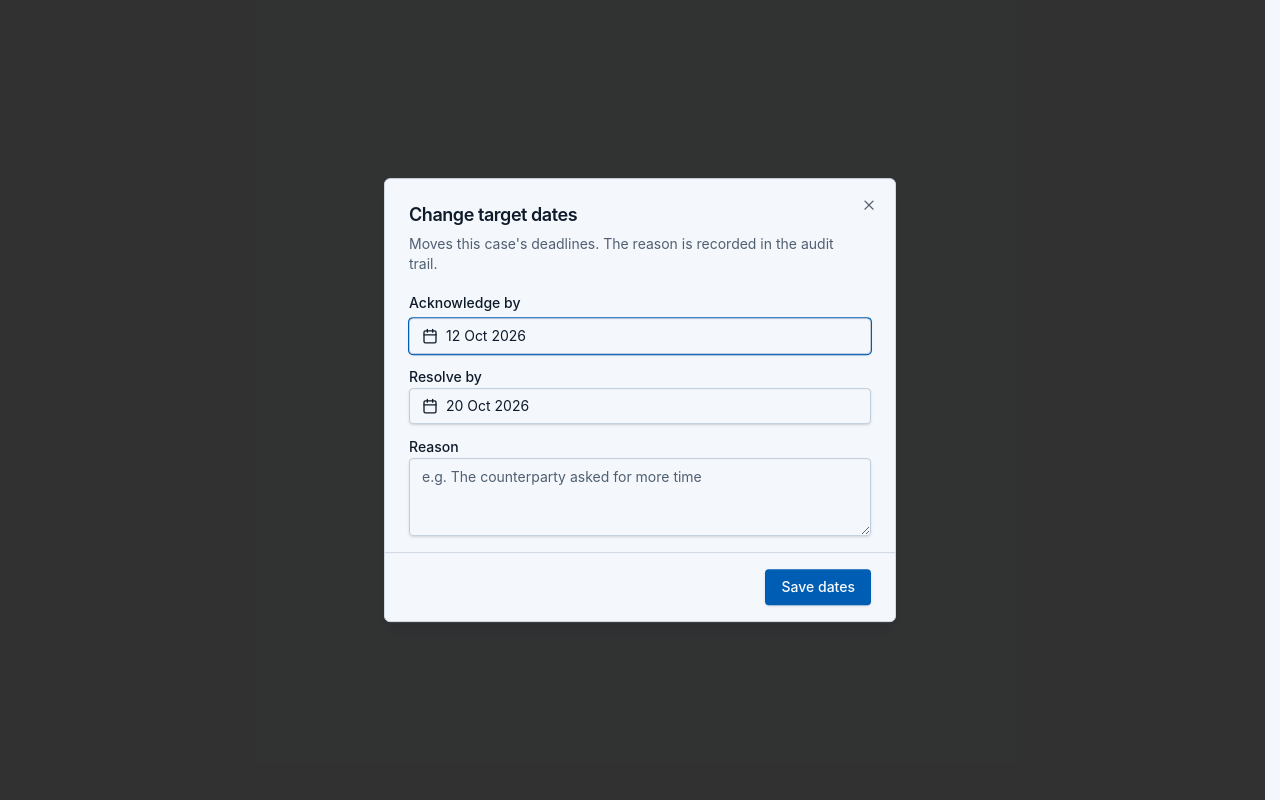
Test case: TargetDatesDialog › asks for a reason and for a change before anything is sent
Click the button "Save dates" at {"x": 818, "y": 587}, box left=766, top=569, right=871, bottom=605
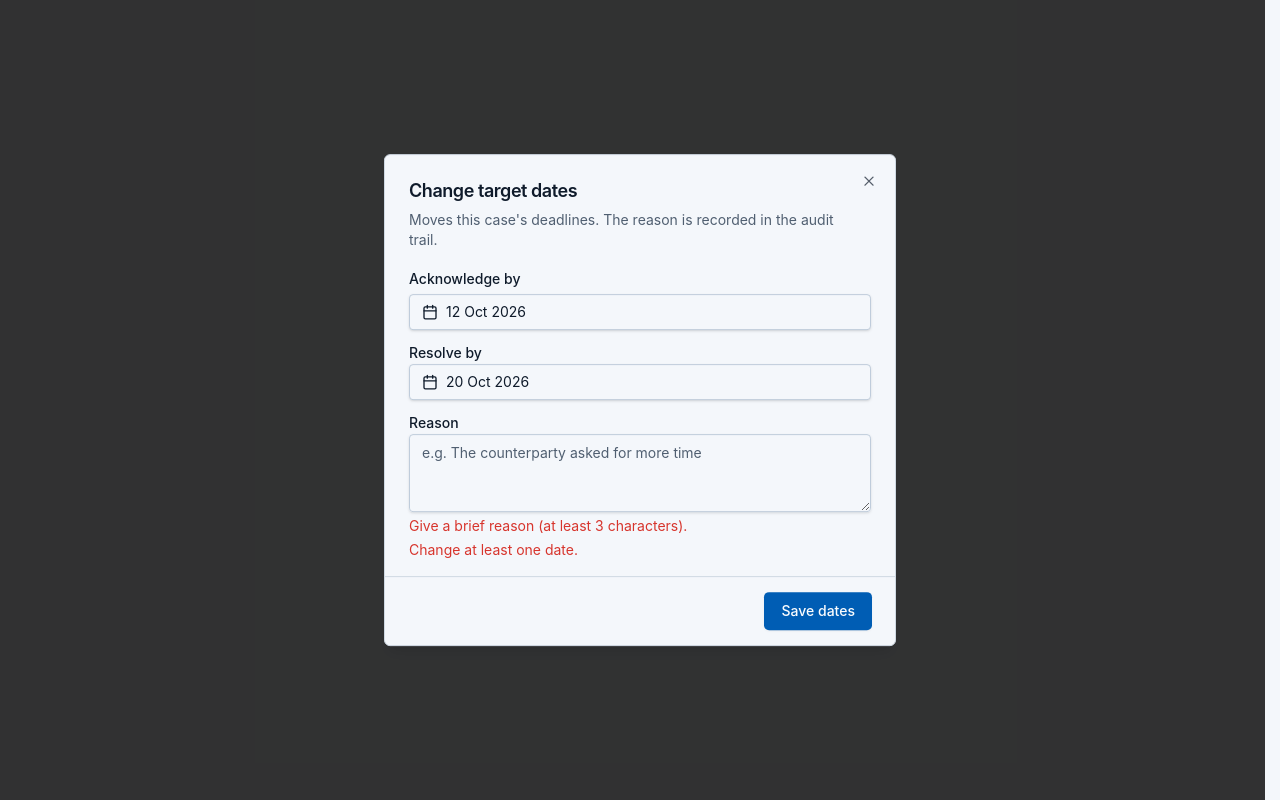
Now the text "Give a brief reason (at least 3 characters)." is shown, box left=409, top=517, right=687, bottom=534
Now the text "Change at least one date." is shown, box left=409, top=541, right=578, bottom=558
